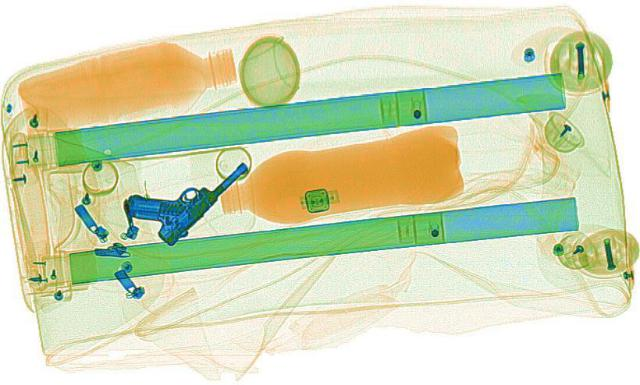Gun: (102, 144, 258, 243)
